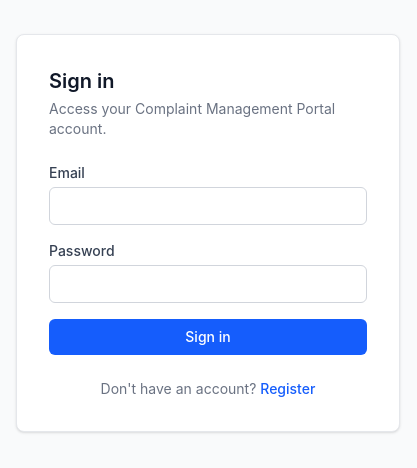
Test: LoginPage › shows the API error message when login fails
Step 1. Type "citizen@example.com" into the field labelled "Email" → (208,206), box top-left (49, 187), bottom-right (367, 225)
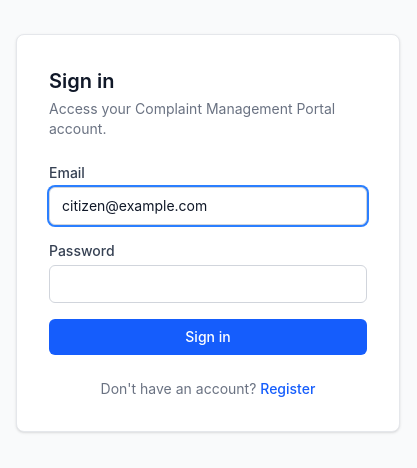
Step 2. Type "wrong-password" into the password field labelled "Password" → (208,284), box top-left (49, 265), bottom-right (367, 303)
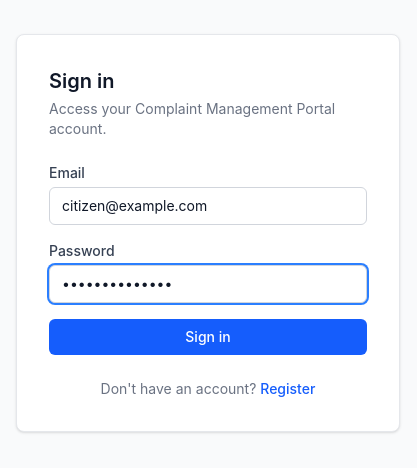
Step 3. Click the button "Sign in" → (208,337), box top-left (49, 319), bottom-right (367, 355)
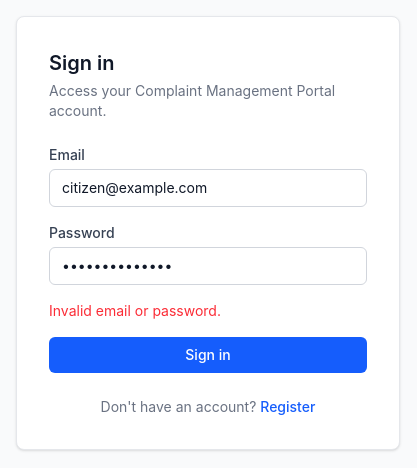
Now the text "Invalid email or password." is shown, box top-left (49, 302), bottom-right (221, 319)
